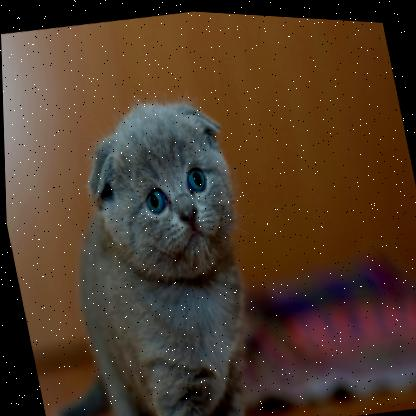cat: (31, 76, 284, 416)
